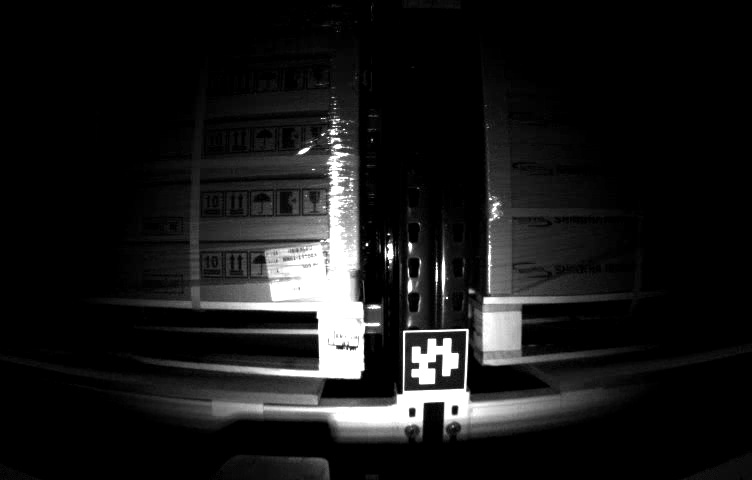True Barcode: (267, 251, 333, 307)
